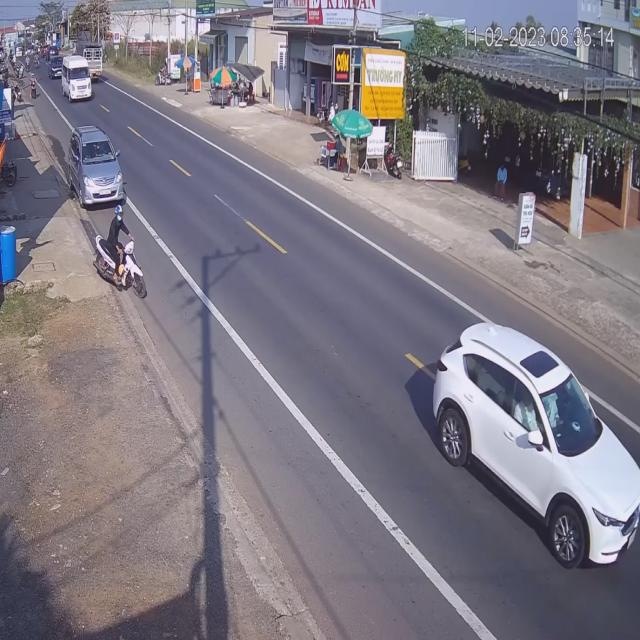bus: (61, 54, 94, 103)
car: (432, 317, 640, 571), (66, 127, 125, 212), (50, 52, 64, 80)
motorbike: (104, 208, 142, 296)
